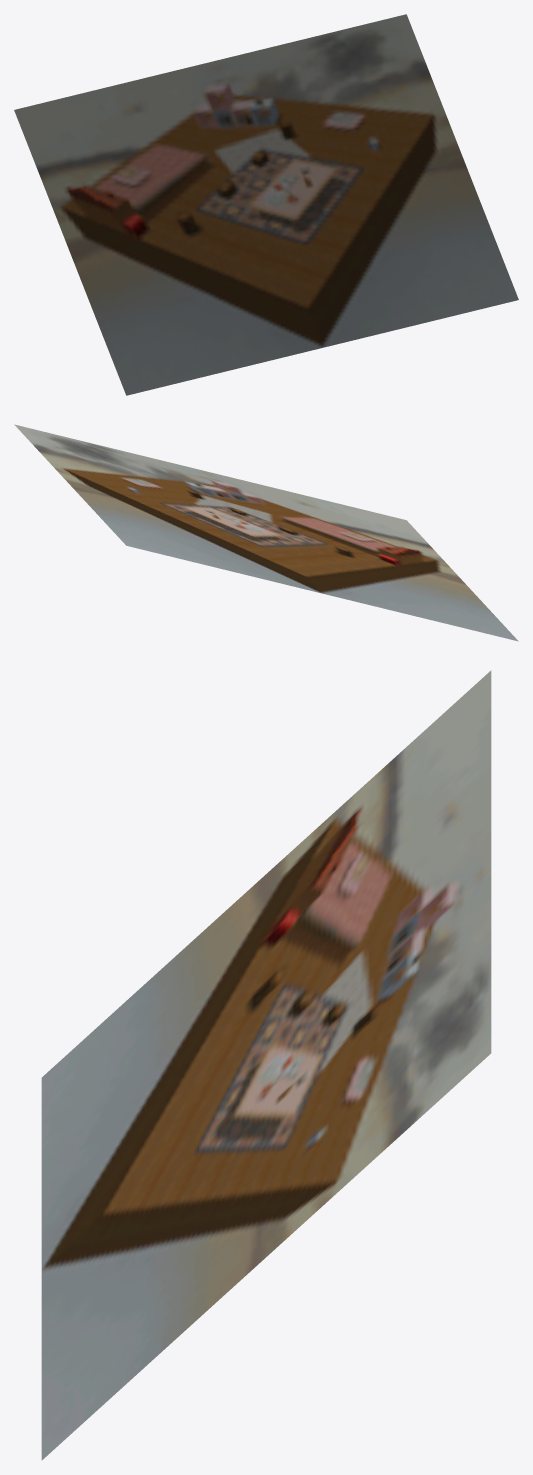
The picture shows the model from 3 angles, top to bottom: view 1: azimuth 30°, elevation 25°; view 2: azimuth 150°, elevation 25°; view 3: azimuth 270°, elevation 25°; orthographic projection. The views are drawn at different scales.
Visible parts, largest first — view 1: Joint_0_Object_0; view 2: Joint_0_Object_0; view 3: Joint_0_Object_0.
Part boxes in pixels (left/top/right/bottom): Joint_0_Object_0: left=14, top=14, right=518, bottom=395; Joint_0_Object_0: left=14, top=424, right=518, bottom=641; Joint_0_Object_0: left=41, top=670, right=491, bottom=1460.
Bounding box in the file's own units: 241 × 120 × 120.
Materials: 1 (1 with a texture image).
